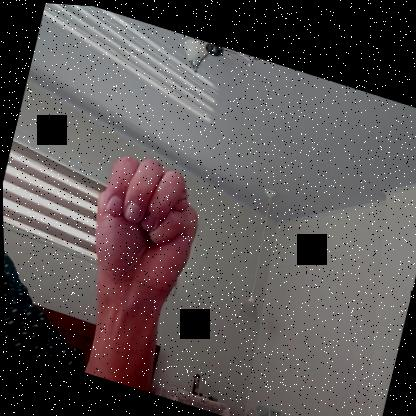M: (77, 141, 211, 303)
